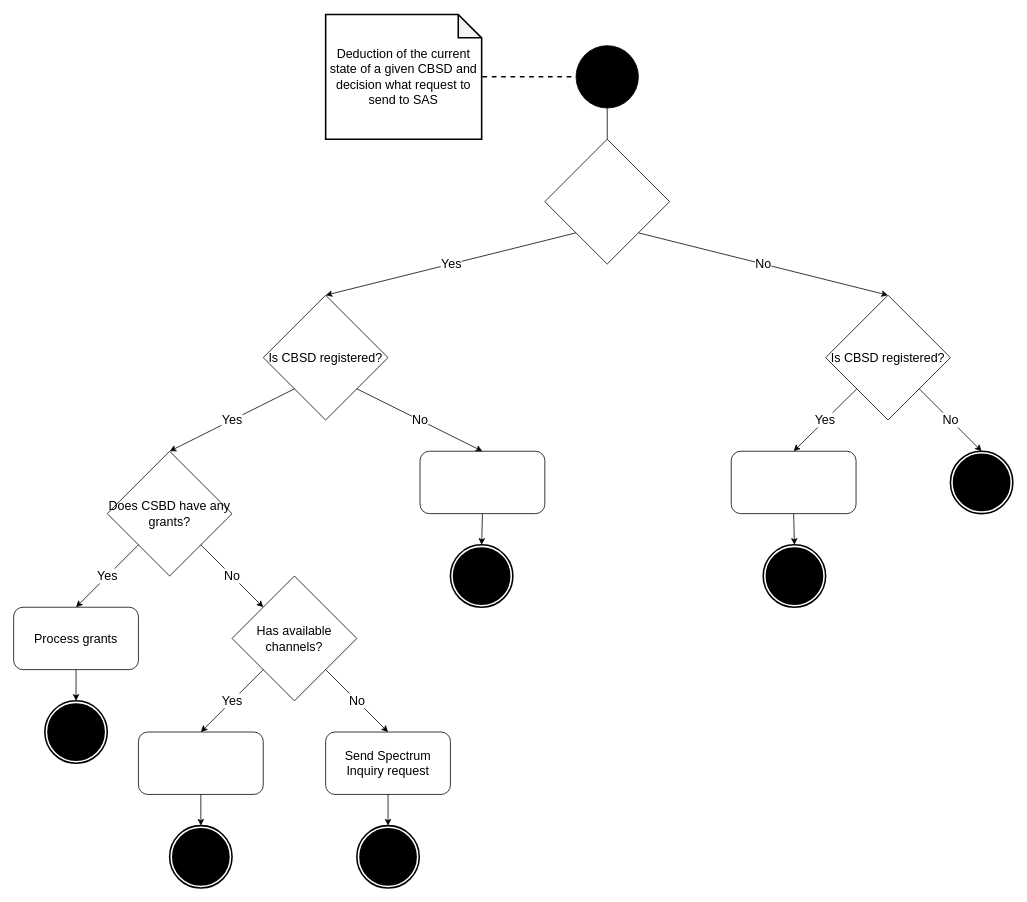
The diagram is 1027 pixels wide and 902 high, and some of its shapes have lost their labels. The box of each missing label's shape, as (x1, y1, x2, y2) in pixels:
Send Deregistration request: (730, 450, 856, 514)
Send Grant request: (138, 731, 263, 794)
Send Registration request: (419, 450, 545, 514)
Should CBSD be active?: (544, 138, 670, 264)
